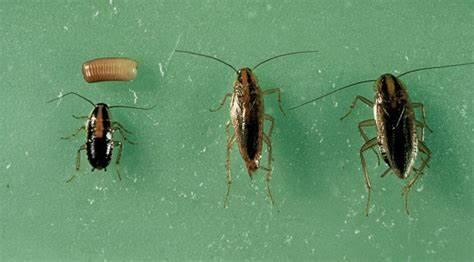cockroach: (365, 70, 427, 188), (227, 62, 272, 181), (79, 96, 123, 175)
